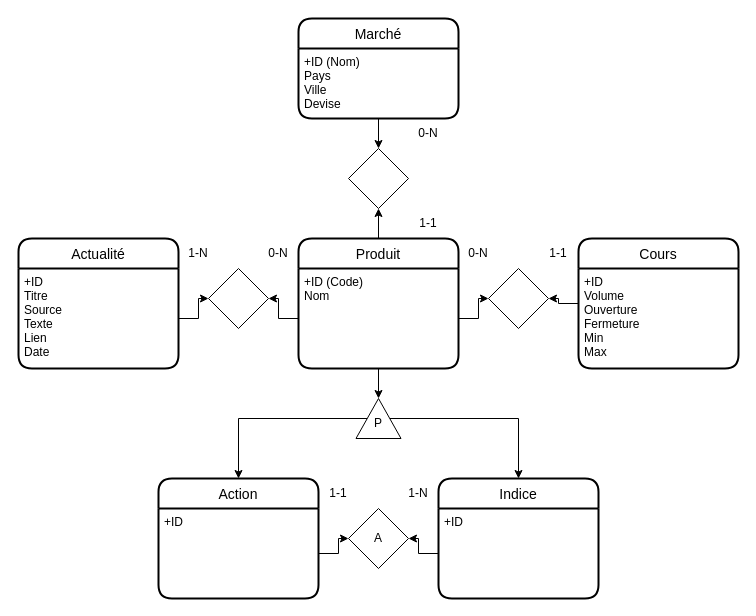
The diagram is 756 pixels wide and 616 high, and some of its shapes have lost their labels. Here are the shapes that lost their labels. From the top down, the centre of each, then its label:
At point (378, 178): "Appartient".
At point (238, 298): "Liée".
At point (518, 298): "Contient date".
